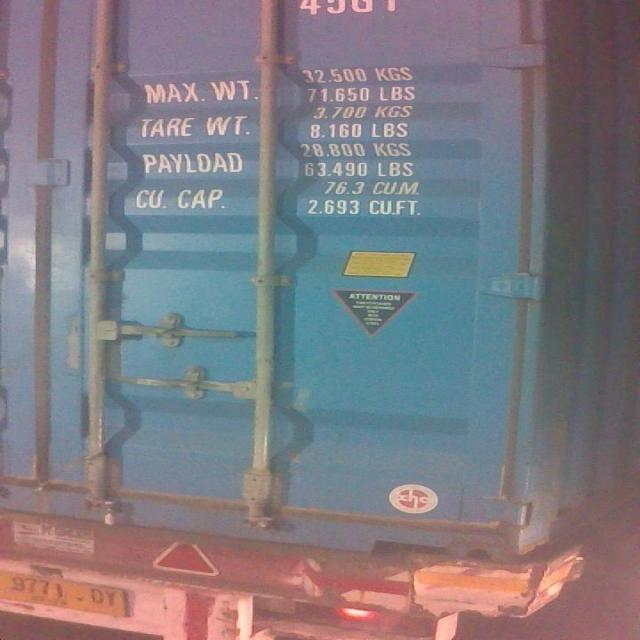seal: (95, 496, 119, 526)
